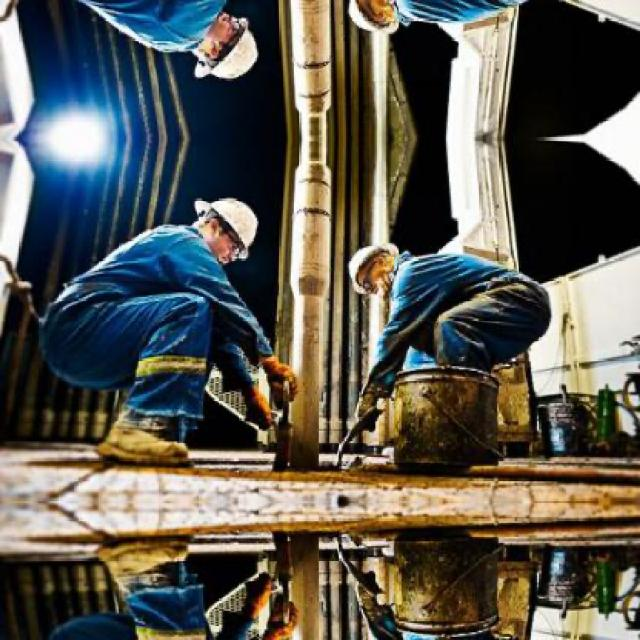con casco: (162, 185, 297, 294), (344, 235, 434, 314)
